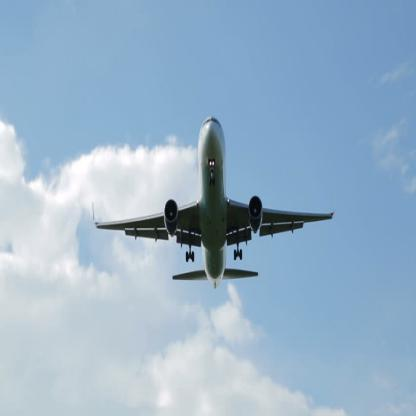aircraft: (92, 115, 334, 290)
